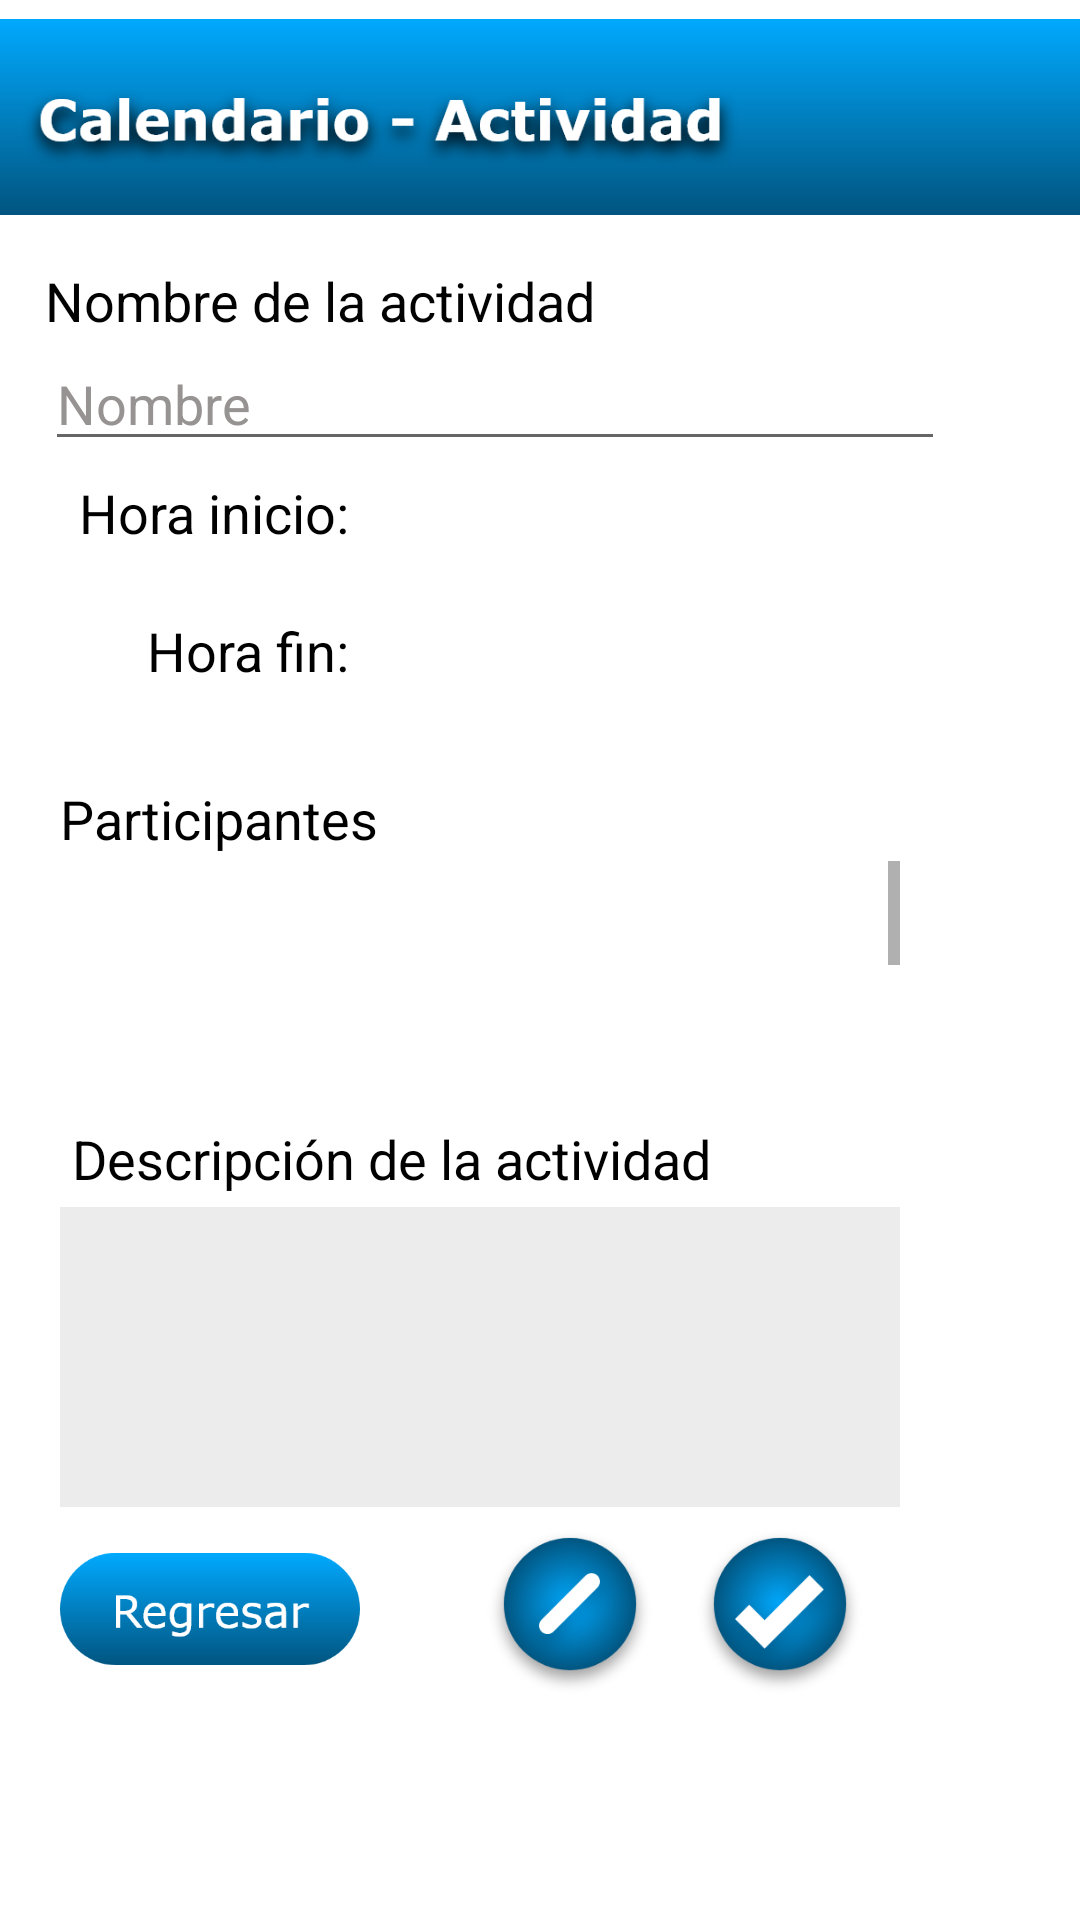

Named icons in this screenshot (1080 x 1920) and their bounding boxes, (x1, y1, x2, y2):
registrar actividad: (709, 1537, 851, 1683)
